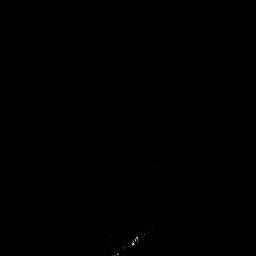ship: (112, 230, 153, 256)
